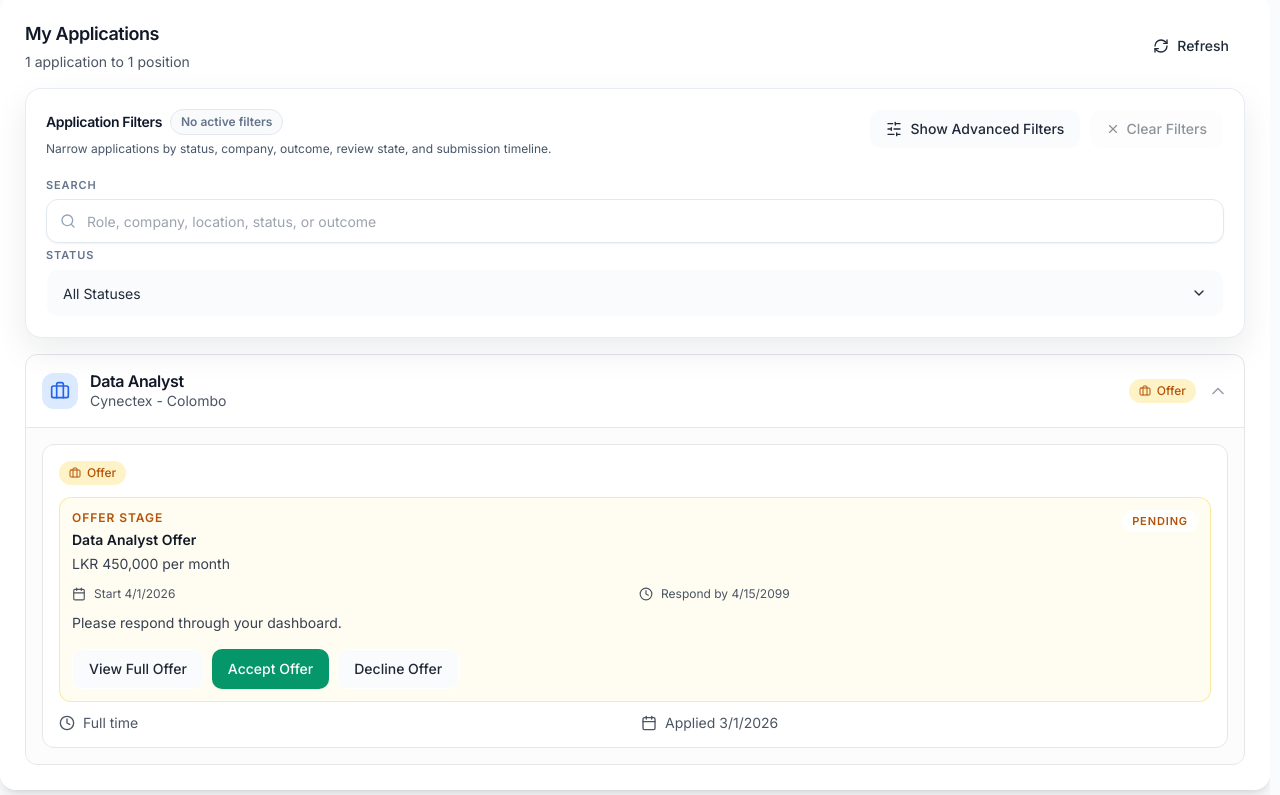
Test case: MyApplicationsList offer flow › lets the candidate decline a pending offer with a note
The width and height of the screenshot is (1280, 795).
Expected: the text "Offer Stage" is shown, [72,510,163,525]
Step 1. Click the button "Decline Offer" → [398, 669], box [337,649,459,689]
(page scrolled)
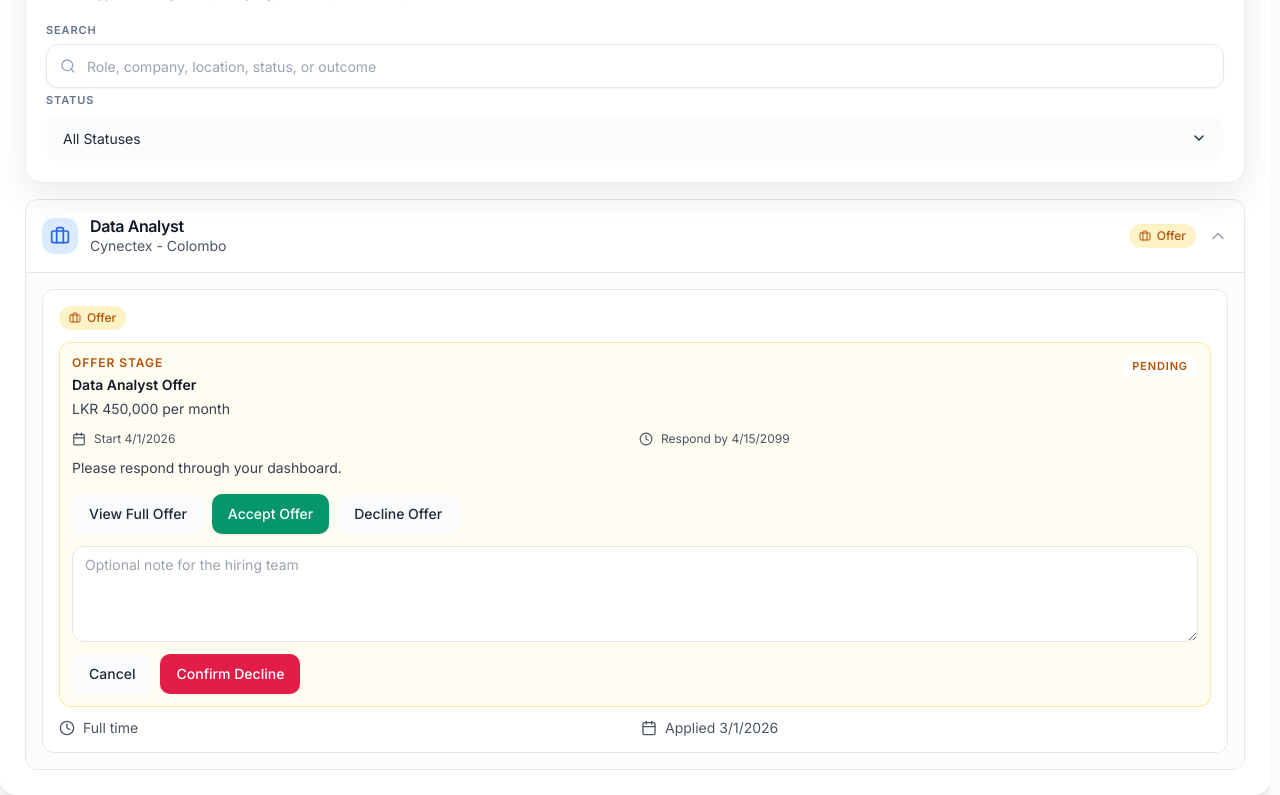
Step 2. Type "I accepted another role." into the text box with placeholder "Optional note for the hiring team" → [635, 594], box [72,546,1198,642]
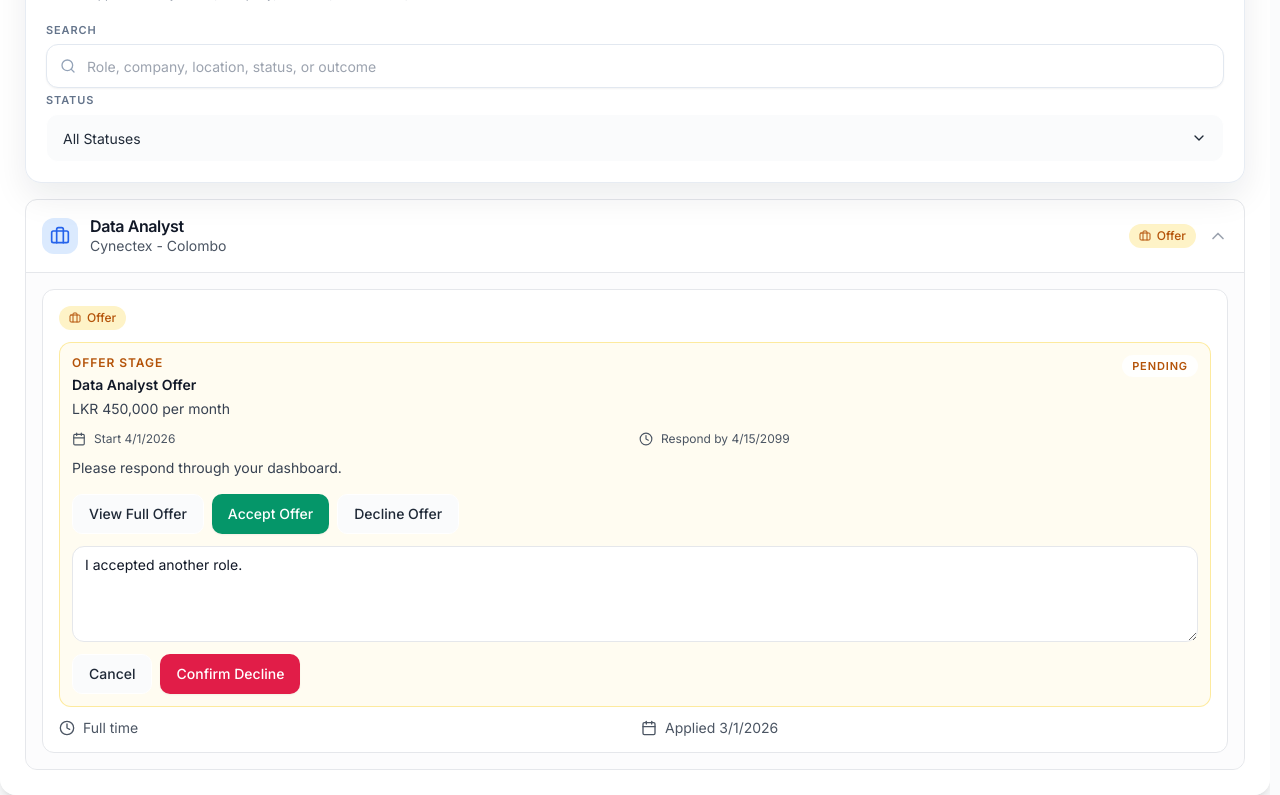
Step 3. Click the button "Confirm Decline" → [230, 674], box [160,654,300,694]
(page scrolled)
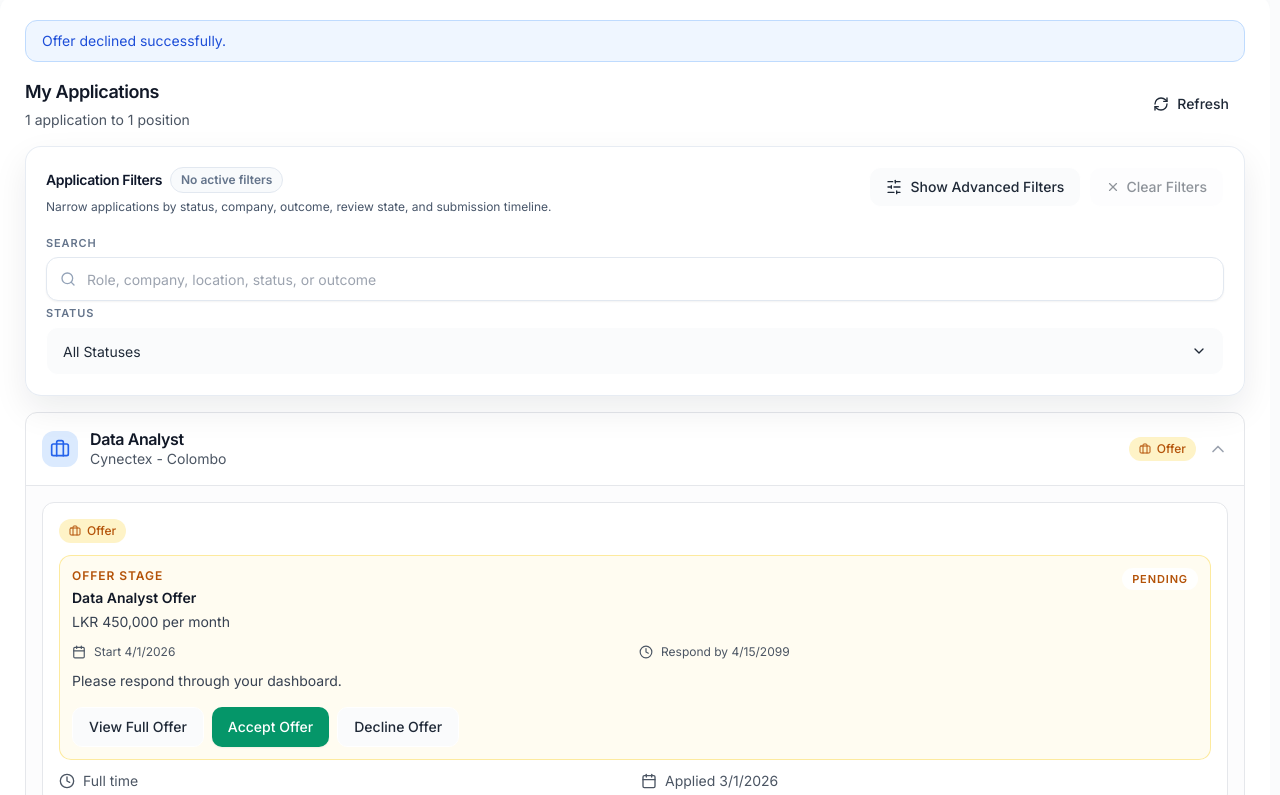
Expected: the text "Offer declined successfully." is shown, [25,20,1245,62]
